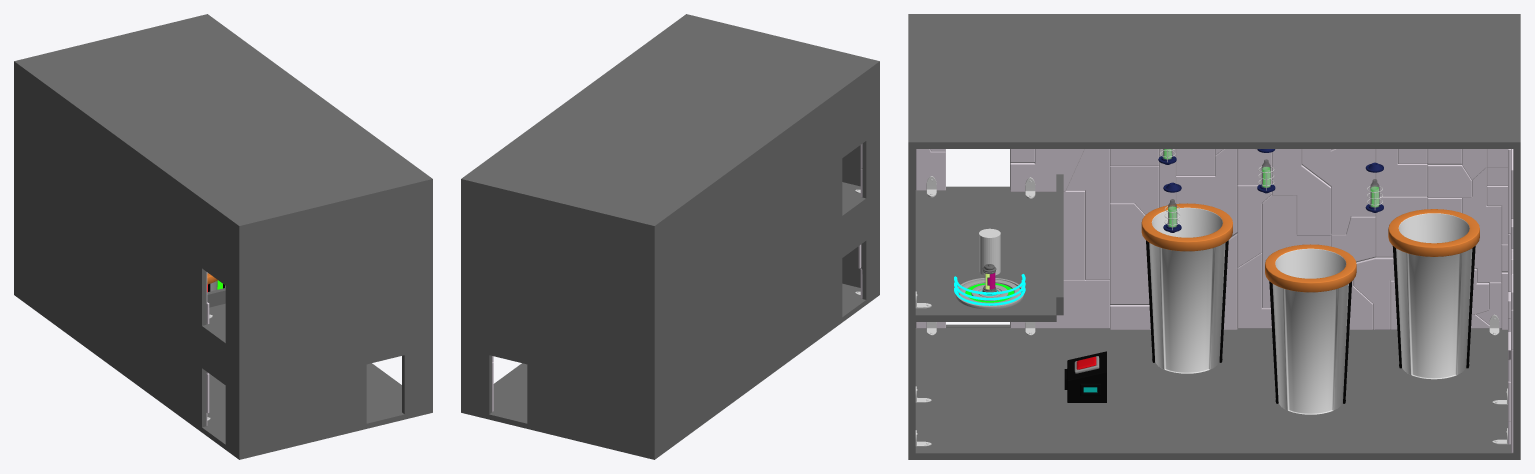
The model's file is Sala3.fbx.
The picture shows the model from 3 angles, left to right: view 1: azimuth 30°, elevation 25°; view 2: azimuth 150°, elevation 25°; view 3: azimuth 270°, elevation 25°; orthographic projection. The views are drawn at different scales.
Parts seen in each view (by area): view 1: Cube.014; view 2: Cube.014; view 3: Cube.014, Plane.089, Tubo 2.001, Tubo 3.001, Tubo 1.001, Plane.090, Cube.025, PedestalLeite.001, Cylinder.005, Circle.015.
Part boxes in pixels (x1,y1,x2,y2): Cube.014: [14, 14, 432, 459]; Cube.014: [461, 14, 879, 459]; Cube.014: [908, 14, 1520, 459]; Plane.089: [916, 149, 1507, 329]; Tubo 2.001: [1265, 244, 1356, 414]; Tubo 3.001: [1388, 209, 1479, 379]; Tubo 1.001: [1141, 203, 1232, 373]; Plane.090: [1508, 149, 1513, 452]; Cube.025: [1064, 351, 1106, 402]; PedestalLeite.001: [955, 278, 1024, 309]; Cylinder.005: [979, 228, 1000, 275]; Circle.015: [954, 274, 1025, 305].
Bounding box in the file's own units: 6150 × 7100 × 12400.
